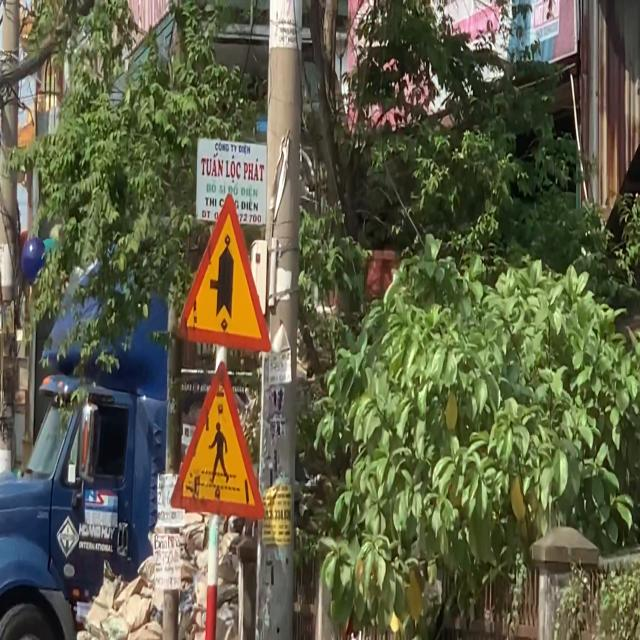Giao voi duong khong uu tien: (175, 192, 272, 354)
Nguoi di bo cat ngang: (169, 360, 265, 521)
